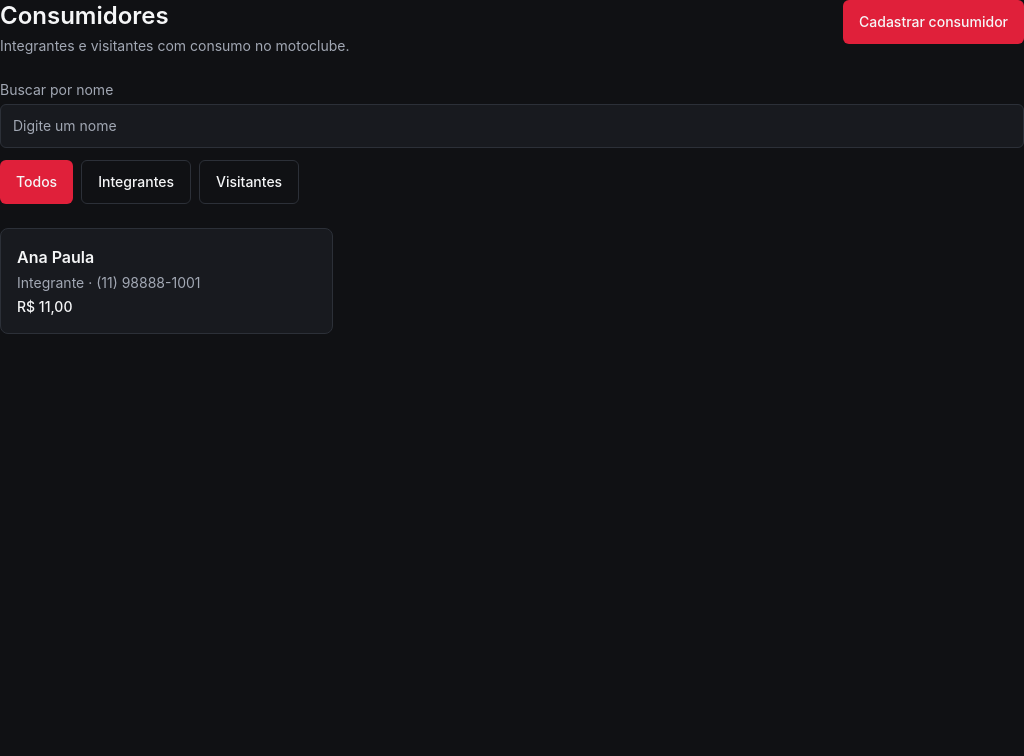
ConsumersView › shows the selected consumer's history, marking a cancelled item and leaving it out of the total
This screenshot has width=1024, height=756.
Click the button "Ana Paula Integrante · (11) 98888-1001 R$ 11,00": point(167, 281) [0, 228, 333, 334]
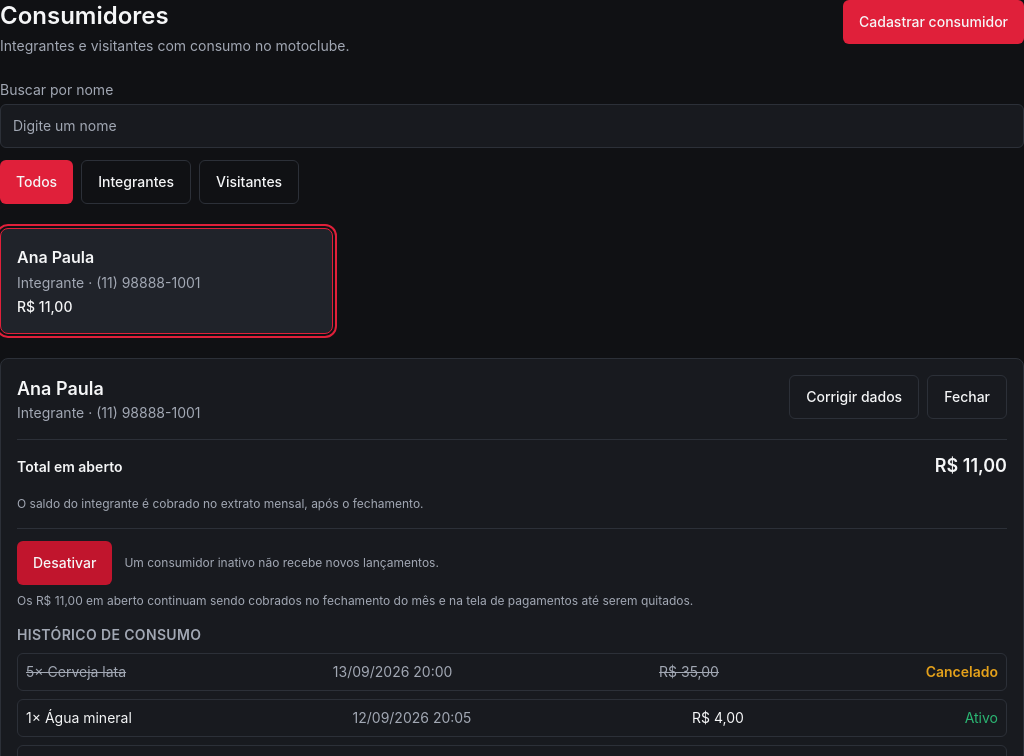
Expected: the text "Cancelado" is shown, [926, 662, 998, 682]
Expected: the text "R$ 35,00" is shown, [659, 662, 719, 682]
Expected: the text "R$ 11,00" in the row of "Total em aberto" is shown, [935, 455, 1007, 476]
